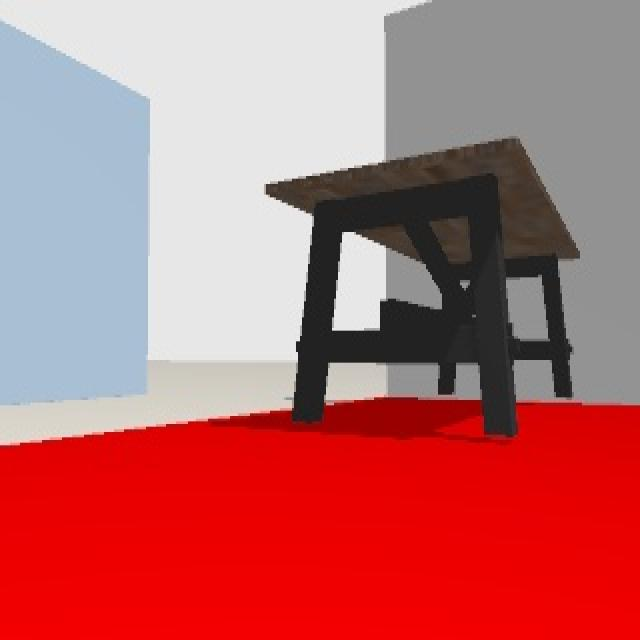dining: (267, 133, 582, 434)
